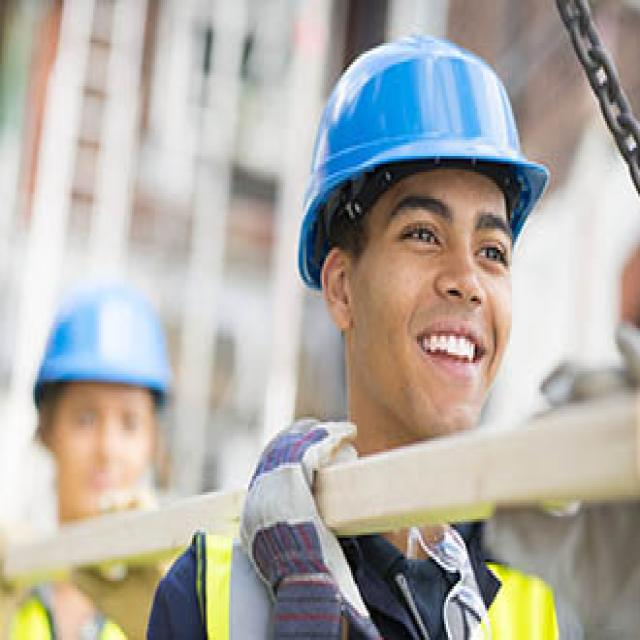Reflective-Jacket: (184, 511, 566, 640)
Safety-Helmet: (287, 32, 555, 282), (26, 264, 180, 412)
